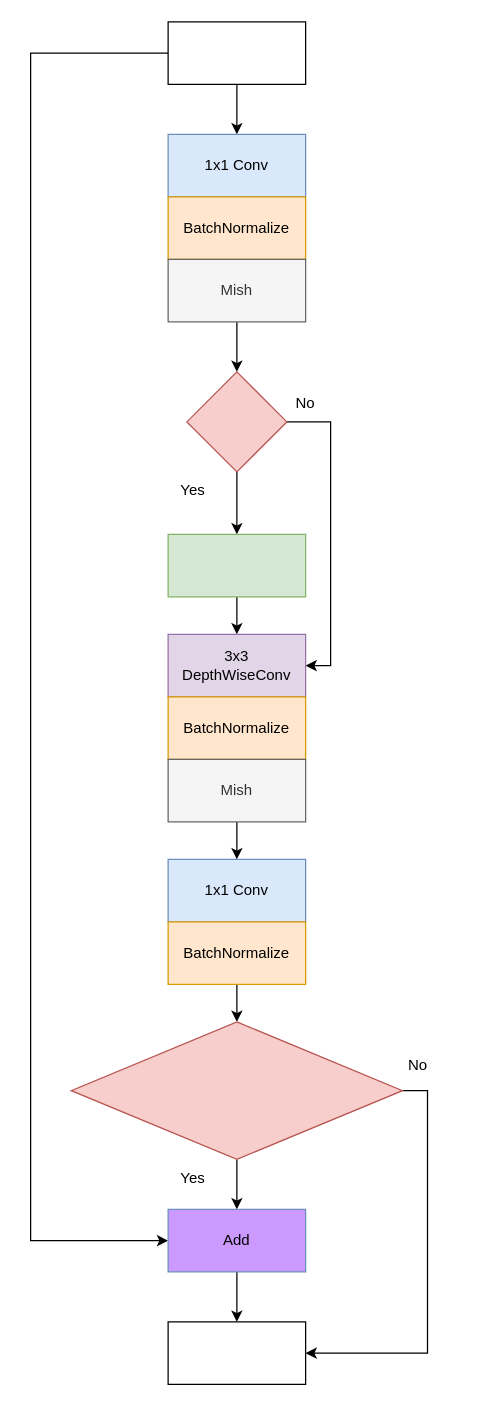
The diagram is 478 pixels wide and 1406 high, and some of its shapes have lost their labels. Each missing label, with the box of its shape:
Input: (167, 21, 306, 84)
Ouput: (167, 1321, 306, 1384)
stride = 1 and input.shape = BatchNormalize.shape: (70, 1021, 402, 1159)
stride = 2: (186, 371, 287, 472)
ZeroPadding: (167, 533, 306, 597)
